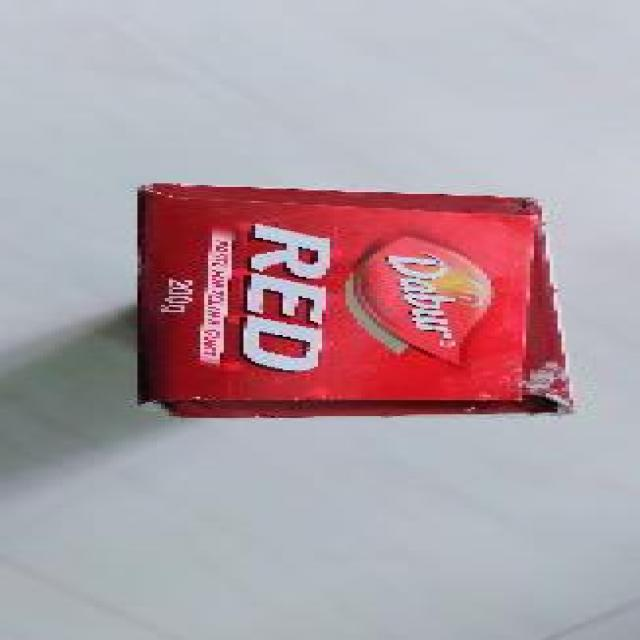tooth paste: (121, 168, 584, 430)
